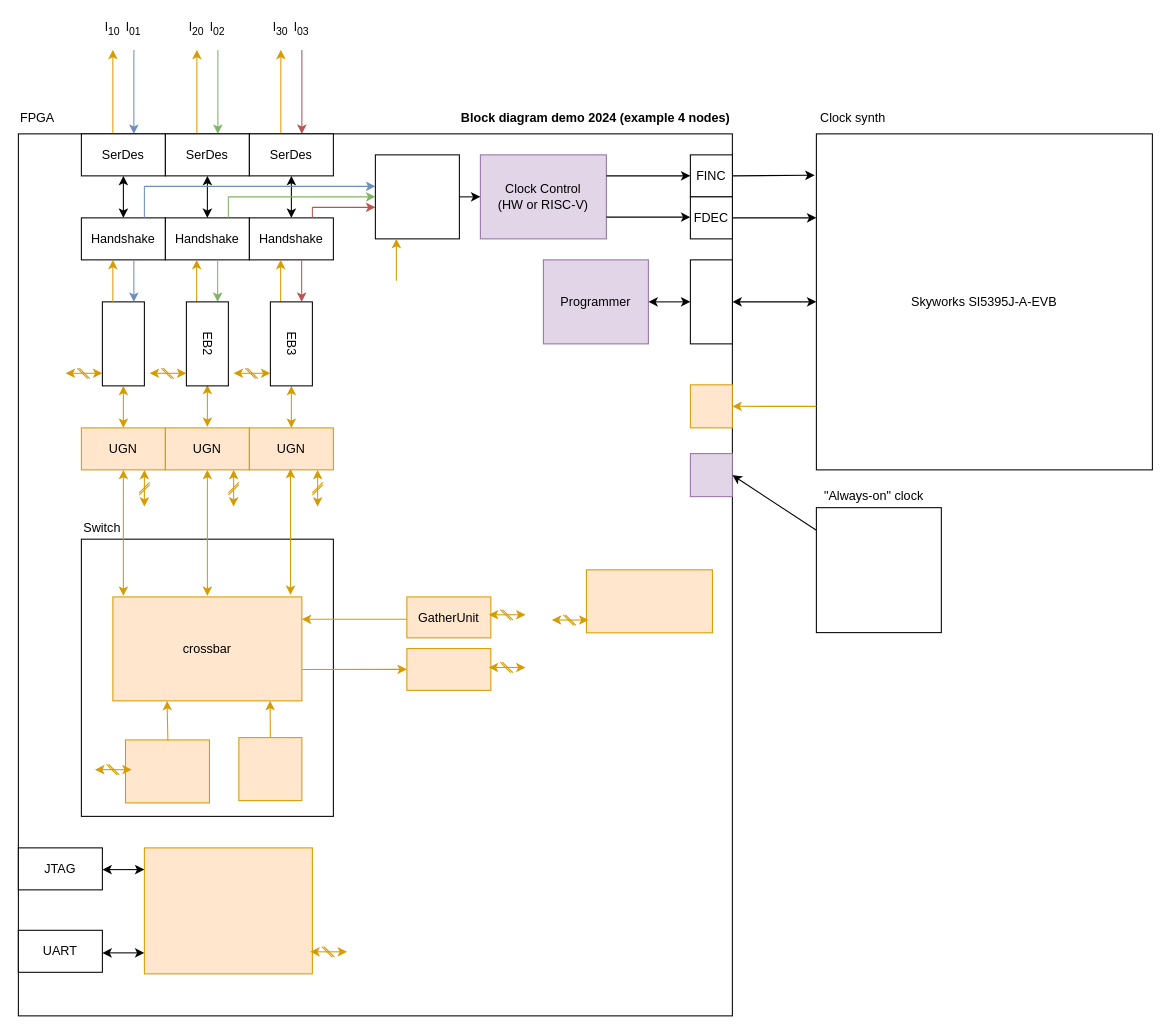
Image size: 1171x1034. Some labels were removed from this diagram. The centre of each missing label's shape, as x and y in pixels:
calendar: the point at 166,771
CLK: the point at 710,406
DDCs: the point at 416,196
EB1: the point at 122,343
Management Unit (RISC-V / VexRiscV): the point at 227,910
null link: the point at 270,769
PE 0: the point at 648,601
REF CLK: the point at 710,475
ScatterUnit: the point at 448,669
SPI: the point at 710,301
